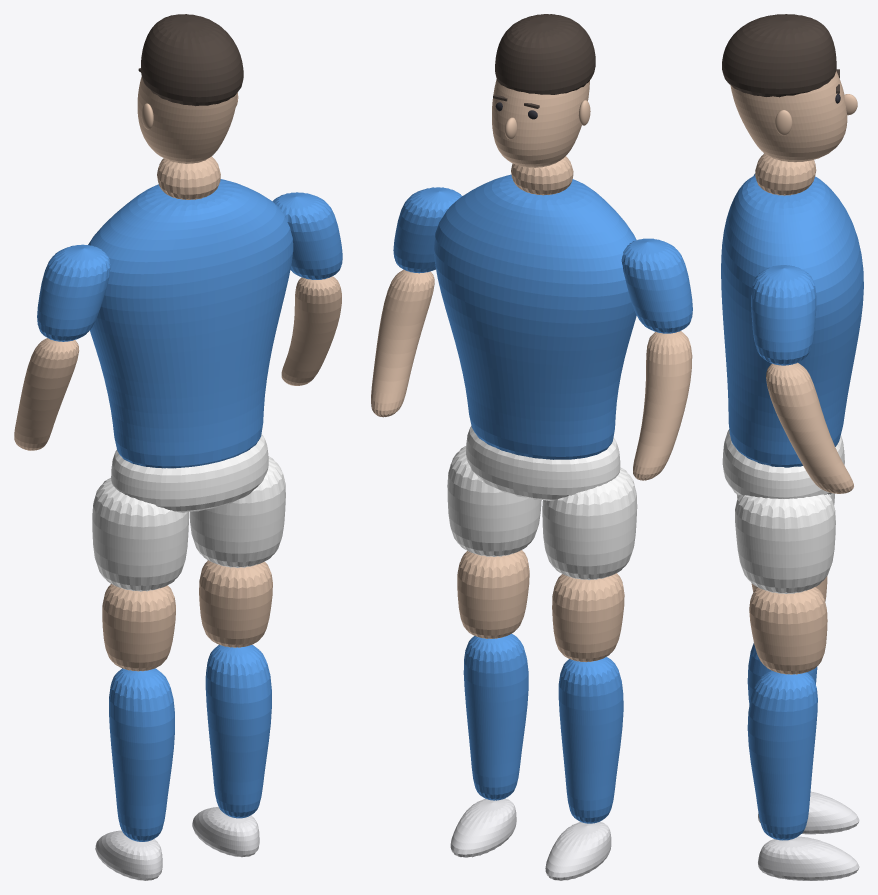
File: player.glb
3 renders of one model, left to right at view 1: azimuth 30°, elevation 25°; view 2: azimuth 150°, elevation 25°; view 3: azimuth 270°, elevation 25°, orthographic. The views are drawn at different scales.
Visible parts, largest first — view 1: Torso, RightLeg_Sock, LeftLeg_Sock, LeftLeg_Shorts, Hair, Pelvis, RightLeg_Shorts, LeftArm_Sleeve, RightLeg_Thigh, LeftLeg_Thigh, Head, LeftArm_Forearm (+5 smaller); view 2: Torso, LeftLeg_Sock, RightLeg_Sock, LeftLeg_Shorts, Hair, RightLeg_Shorts, Pelvis, LeftArm_Forearm, Head, RightArm_Forearm, RightLeg_Thigh, LeftLeg_Thigh (+5 smaller); view 3: Torso, RightLeg_Sock, RightLeg_Shorts, Hair, Head, RightLeg_Thigh, RightArm_Sleeve, RightArm_Forearm, RightLeg_Boot, Pelvis, Neck, LeftLeg_Boot (+2 smaller).
Boxes of the visible parts, x1=… form: Torso: x1=88, y1=179, x2=293, y2=468; RightLeg_Sock: x1=205, y1=644, x2=271, y2=818; LeftLeg_Sock: x1=109, y1=668, x2=174, y2=841; LeftLeg_Shorts: x1=92, y1=478, x2=188, y2=591; Hair: x1=140, y1=14, x2=243, y2=106; Pelvis: x1=111, y1=434, x2=268, y2=512; RightLeg_Shorts: x1=189, y1=456, x2=285, y2=567; LeftArm_Sleeve: x1=37, y1=244, x2=110, y2=341; RightLeg_Thigh: x1=199, y1=560, x2=272, y2=647; LeftLeg_Thigh: x1=102, y1=584, x2=175, y2=671; Head: x1=137, y1=76, x2=237, y2=163; LeftArm_Forearm: x1=14, y1=338, x2=79, y2=450; Torso: x1=434, y1=174, x2=636, y2=459; LeftLeg_Sock: x1=558, y1=657, x2=623, y2=823; RightLeg_Sock: x1=463, y1=633, x2=528, y2=800; LeftLeg_Shorts: x1=542, y1=467, x2=637, y2=579; Hair: x1=495, y1=14, x2=595, y2=94; RightLeg_Shorts: x1=447, y1=446, x2=541, y2=556; Pelvis: x1=466, y1=426, x2=620, y2=500; LeftArm_Forearm: x1=633, y1=331, x2=692, y2=480; Head: x1=492, y1=79, x2=589, y2=167; RightArm_Forearm: x1=371, y1=269, x2=434, y2=417; RightLeg_Thigh: x1=457, y1=550, x2=529, y2=638; LeftLeg_Thigh: x1=552, y1=573, x2=624, y2=662; Torso: x1=721, y1=175, x2=863, y2=467; RightLeg_Sock: x1=747, y1=670, x2=817, y2=840; RightLeg_Shorts: x1=735, y1=494, x2=835, y2=593; Hair: x1=722, y1=14, x2=836, y2=97; Head: x1=730, y1=71, x2=847, y2=162; RightLeg_Thigh: x1=749, y1=587, x2=827, y2=674; RightArm_Sleeve: x1=751, y1=265, x2=816, y2=365; RightArm_Forearm: x1=766, y1=362, x2=853, y2=493; RightLeg_Boot: x1=758, y1=836, x2=859, y2=880; Pelvis: x1=722, y1=429, x2=844, y2=498; Neck: x1=755, y1=153, x2=816, y2=195; LeftLeg_Boot: x1=758, y1=791, x2=859, y2=834.
Bounding box in the file's own units: 0.7023 × 1.83 × 0.2847.
